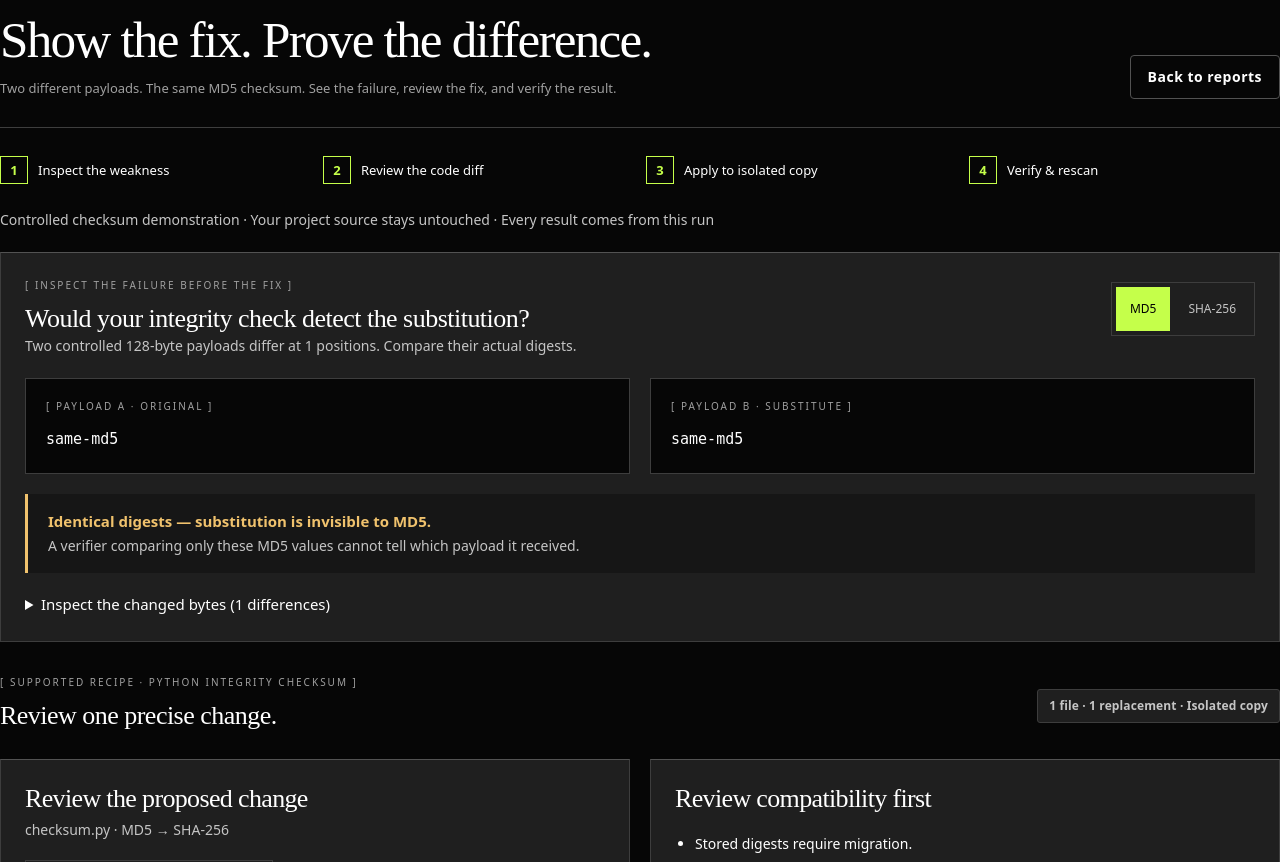
Test: RemediationLab › lets reviewers inspect the collision before any verification runs
This screenshot has width=1280, height=862.
Expected: the text "Identical digests — substitution is invisible to MD5." is shown, x1=48 y1=511 x2=431 y2=531
Click the button "SHA-256".
click(1212, 309)  # box x1=1174 y1=287 x2=1250 y2=331
(page scrolled)
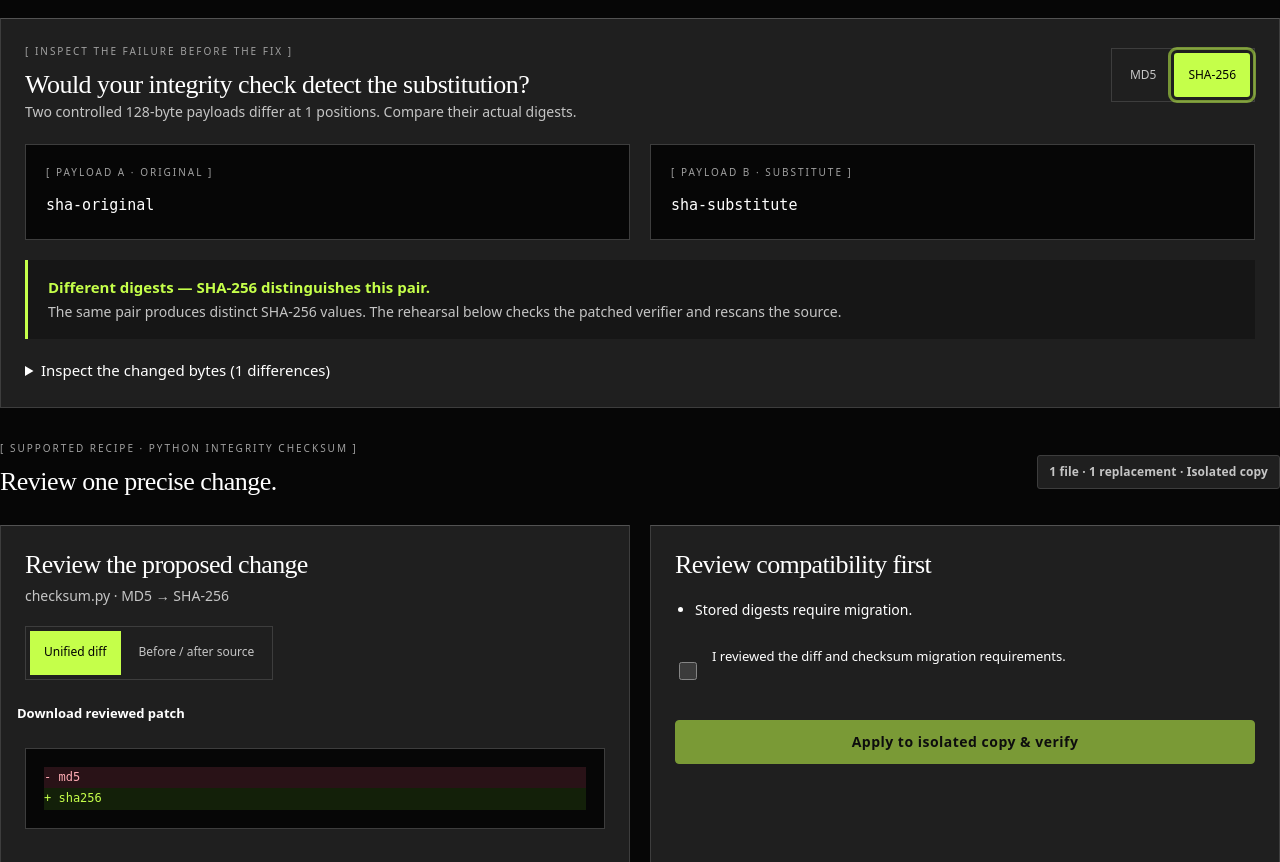
Now the text "Different digests — SHA-256 distinguishes this pair." is shown, box x1=48 y1=277 x2=430 y2=297
Now the text "sha-original" is shown, box x1=46 y1=196 x2=154 y2=214
Now the text "sha-substitute" is shown, box x1=671 y1=196 x2=797 y2=214
Click the button "Before / after source".
click(196, 653)  # box x1=124 y1=631 x2=268 y2=675
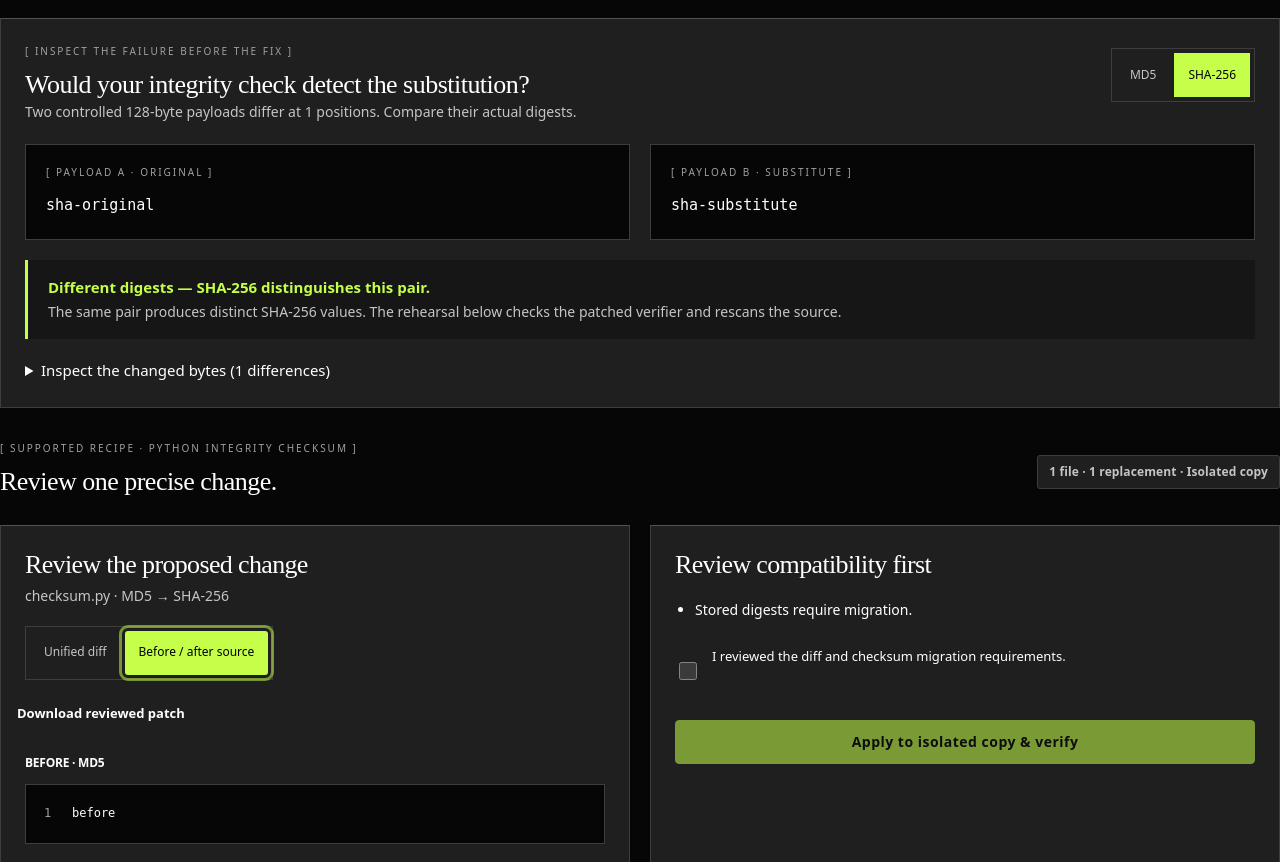
Now the heading "Before · MD5" is shown, box x1=25 y1=754 x2=104 y2=771
